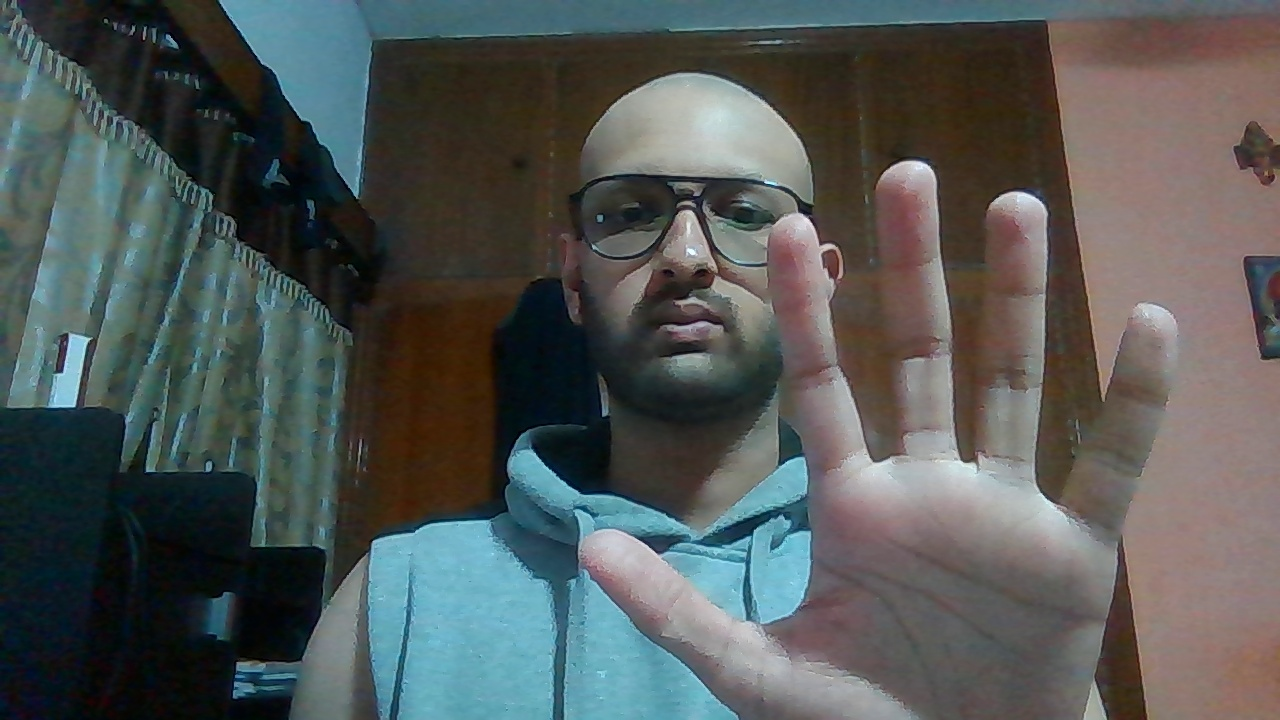Hello: (574, 159, 1186, 720)
